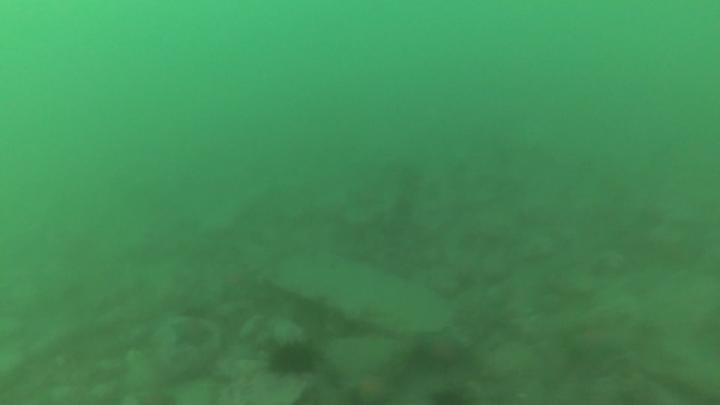echinus: (265, 338, 321, 380), (427, 384, 472, 404)
starfish: (412, 325, 471, 373), (346, 369, 397, 405), (168, 314, 216, 351)
